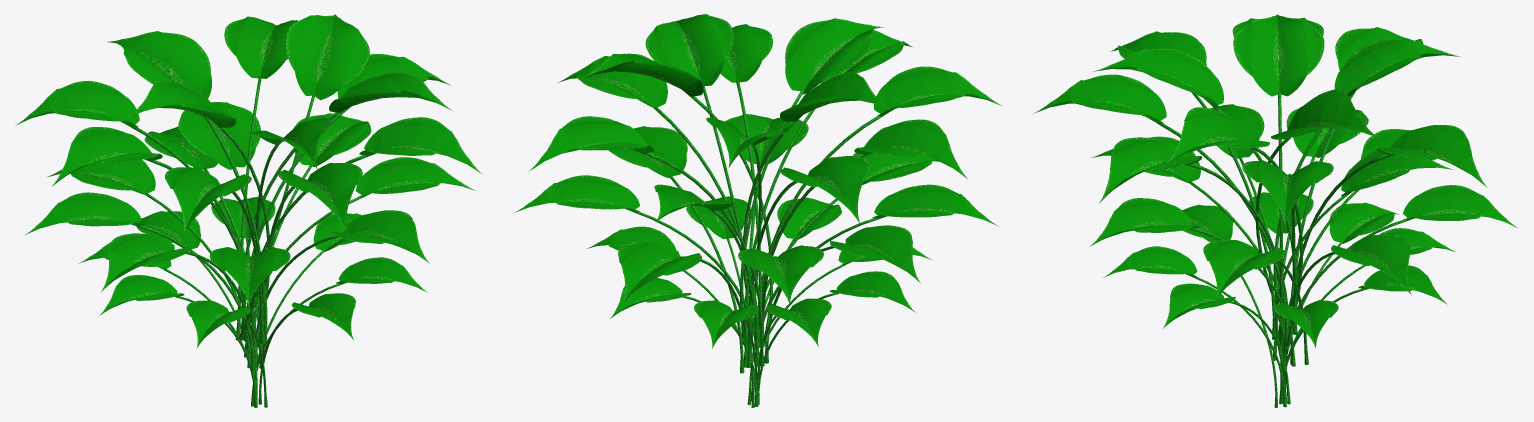
The model's file is leaf.dae.
The picture shows the model from 3 angles, left to right: view 1: azimuth 30°, elevation 25°; view 2: azimuth 150°, elevation 25°; view 3: azimuth 270°, elevation 25°; orthographic projection.
Parts seen in each view (by area): view 1: instance_25_002, instance_17_002, instance_19_002, instance_20_002, instance_27_002, instance_21_002, instance_16_002, instance_10_002, instance_15_002, instance_22_002, instance_18_002, instance_14_002 (+28 smaller); view 2: instance_24_002, instance_28_002, instance_18_002, instance_21_002, instance_16_002, instance_11_002, instance_9_002, instance_12_002, instance_19_002, instance_15_002, instance_23_002, instance_10_002 (+29 smaller); view 3: instance_26_002, instance_22_002, instance_24_002, instance_17_002, instance_21_002, instance_12_002, instance_28_002, instance_20_002, instance_25_002, instance_14_002, instance_23_002, instance_11_002 (+30 smaller).
Boxes of the visible parts, x1,y1,x2,y2 form: instance_25_002: (288, 16, 367, 100); instance_17_002: (113, 31, 211, 98); instance_19_002: (24, 82, 139, 127); instance_20_002: (359, 118, 475, 169); instance_27_002: (180, 103, 258, 169); instance_21_002: (226, 17, 297, 78); instance_16_002: (56, 128, 162, 182); instance_10_002: (356, 158, 468, 197); instance_15_002: (30, 193, 144, 232); instance_22_002: (281, 163, 360, 227); instance_18_002: (167, 167, 248, 230); instance_14_002: (331, 211, 424, 259); instance_24_002: (785, 19, 877, 94); instance_28_002: (647, 15, 730, 85); instance_18_002: (874, 67, 993, 115); instance_21_002: (535, 117, 654, 167); instance_16_002: (854, 120, 962, 174); instance_11_002: (520, 176, 639, 211); instance_9_002: (872, 185, 990, 222); instance_12_002: (620, 241, 700, 299); instance_19_002: (782, 156, 867, 218); instance_15_002: (830, 226, 916, 278); instance_23_002: (564, 56, 667, 108); instance_10_002: (610, 126, 686, 178); instance_26_002: (1235, 16, 1321, 96); instance_22_002: (1044, 75, 1166, 123); instance_24_002: (1101, 49, 1223, 108); instance_17_002: (1334, 38, 1453, 97); instance_21_002: (1376, 126, 1481, 182); instance_12_002: (1402, 186, 1512, 225); instance_28_002: (1170, 108, 1269, 161); instance_20_002: (1104, 138, 1202, 197); instance_25_002: (1271, 91, 1372, 139); instance_14_002: (1095, 199, 1199, 243); instance_23_002: (1245, 160, 1331, 220); instance_11_002: (1332, 235, 1410, 290).
Bounding box in the file's own units: 0.7784 × 0.8041 × 0.6318.
